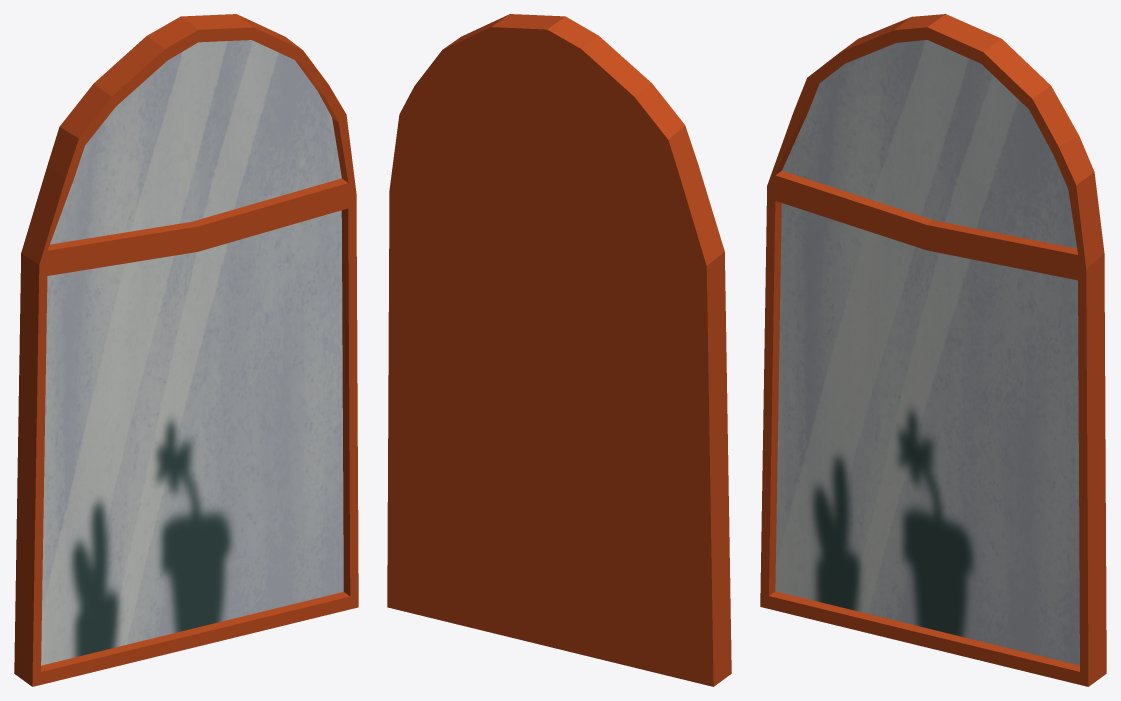
File: Window20.fbx
3 views of the same model, side by side, from view 1: azimuth 30°, elevation 25°; view 2: azimuth 150°, elevation 25°; view 3: azimuth 330°, elevation 25° (orthographic).
Visible parts, largest first — view 1: window_huge.001; view 2: window_huge.001; view 3: window_huge.001.
Boxes of the visible parts, x1,y1,x2,y2 form: window_huge.001: (14,14,358,686); window_huge.001: (387,14,731,686); window_huge.001: (760,14,1106,686).
Bounding box in the file's own units: 107 × 193 × 10.28.
